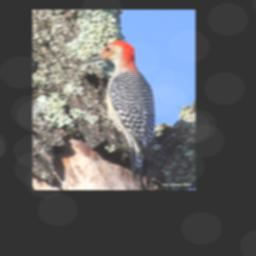Woodpecker: (84, 39, 157, 181)
